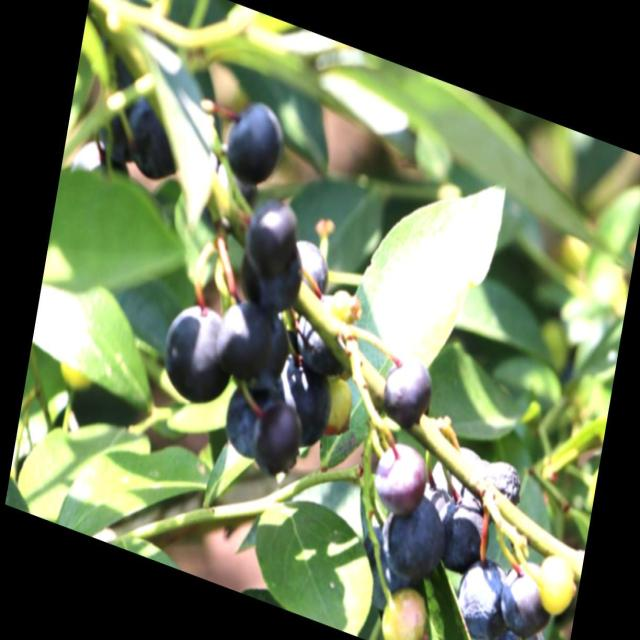blueberry: (158, 288, 238, 412), (374, 485, 450, 587), (222, 92, 290, 198), (265, 348, 335, 446), (218, 368, 282, 471), (446, 543, 513, 639), (375, 344, 439, 442), (368, 425, 430, 522), (240, 189, 302, 282), (495, 552, 559, 640), (216, 298, 276, 387), (250, 395, 306, 483), (432, 488, 487, 576), (289, 235, 327, 298), (476, 611, 552, 639)
blueberry-unripe: (531, 544, 580, 624), (376, 578, 432, 639), (319, 370, 359, 439), (324, 278, 362, 327)
